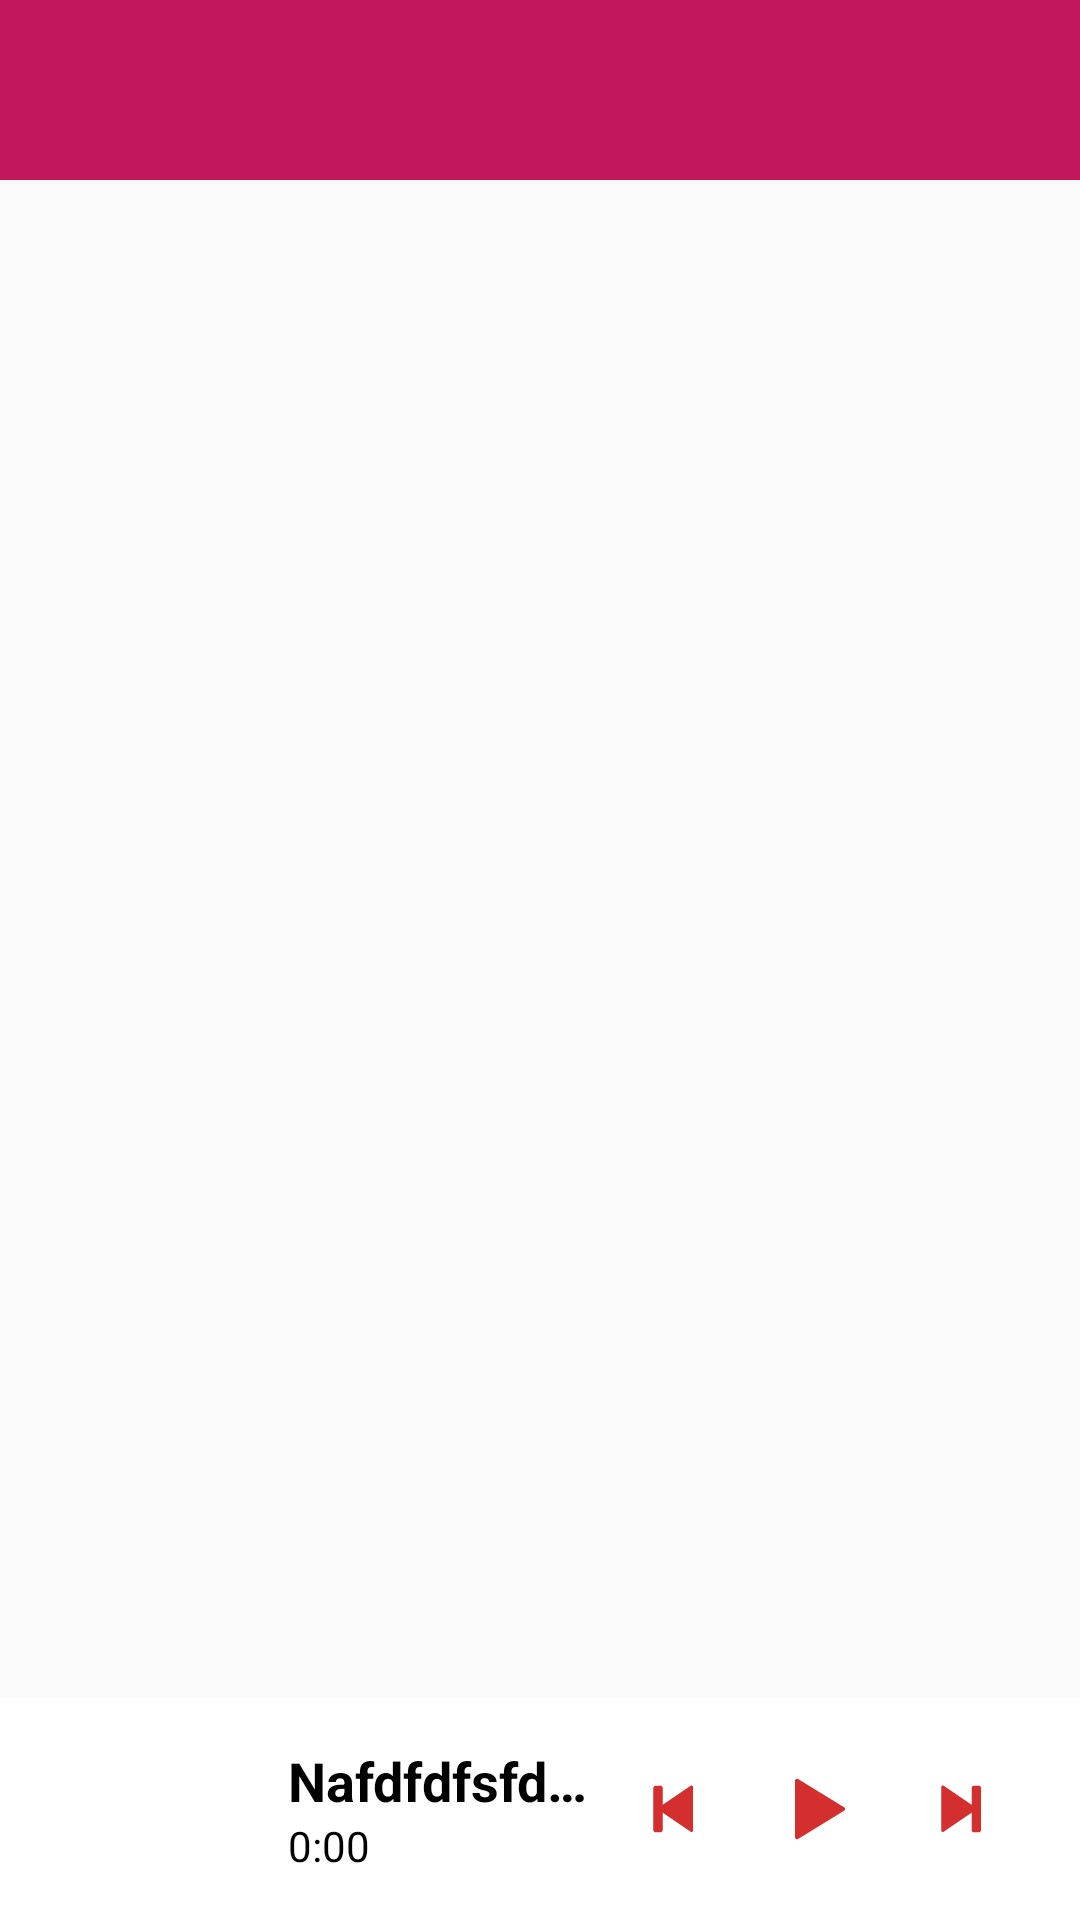

Icons on this 1080×1920 Android screen, each with its box as (x1, y1, x2, y2):
next: (941, 1785, 981, 1833)
play: (795, 1778, 845, 1840)
previous: (653, 1785, 693, 1833)
